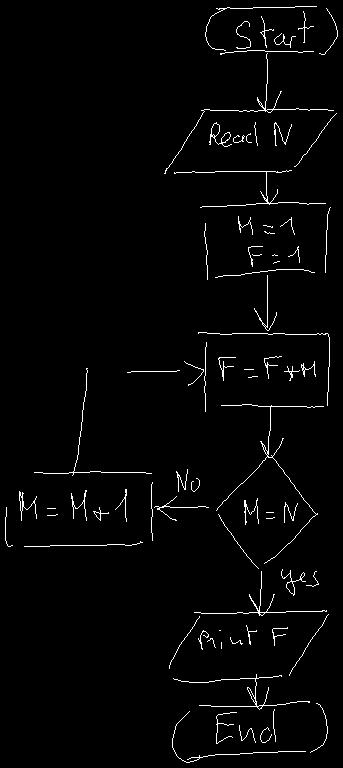arrow: (72, 361, 203, 475), (257, 53, 281, 112), (154, 496, 208, 520), (254, 275, 276, 330), (260, 405, 283, 457), (249, 571, 274, 615), (247, 674, 268, 709), (260, 172, 277, 204)
data: (169, 610, 328, 682), (164, 108, 336, 173)
decision: (216, 455, 317, 568)
process: (5, 471, 152, 546), (198, 332, 329, 411), (200, 202, 330, 279)
terminator: (172, 701, 327, 762), (205, 6, 337, 54)
text: (19, 489, 126, 521), (238, 216, 299, 266), (236, 11, 313, 48), (218, 356, 315, 380), (198, 625, 287, 649), (216, 709, 275, 743), (209, 122, 291, 146), (244, 498, 297, 524), (281, 569, 318, 595), (176, 469, 199, 491)
